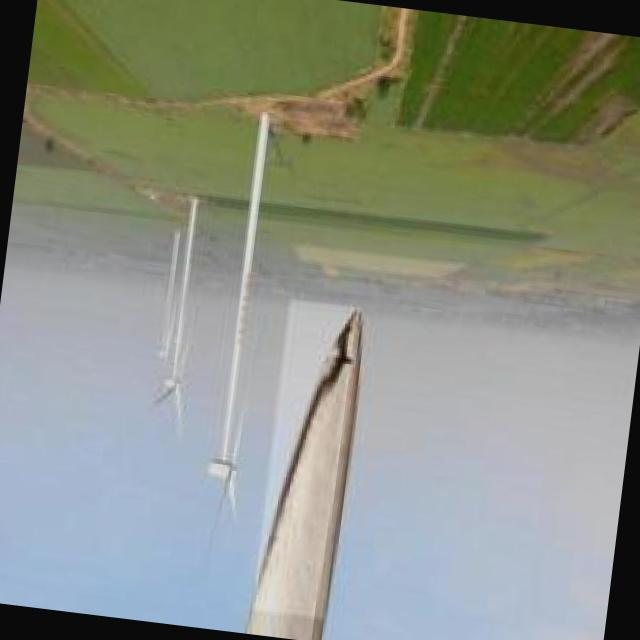Oil LEAKAGE: (256, 308, 362, 581)
